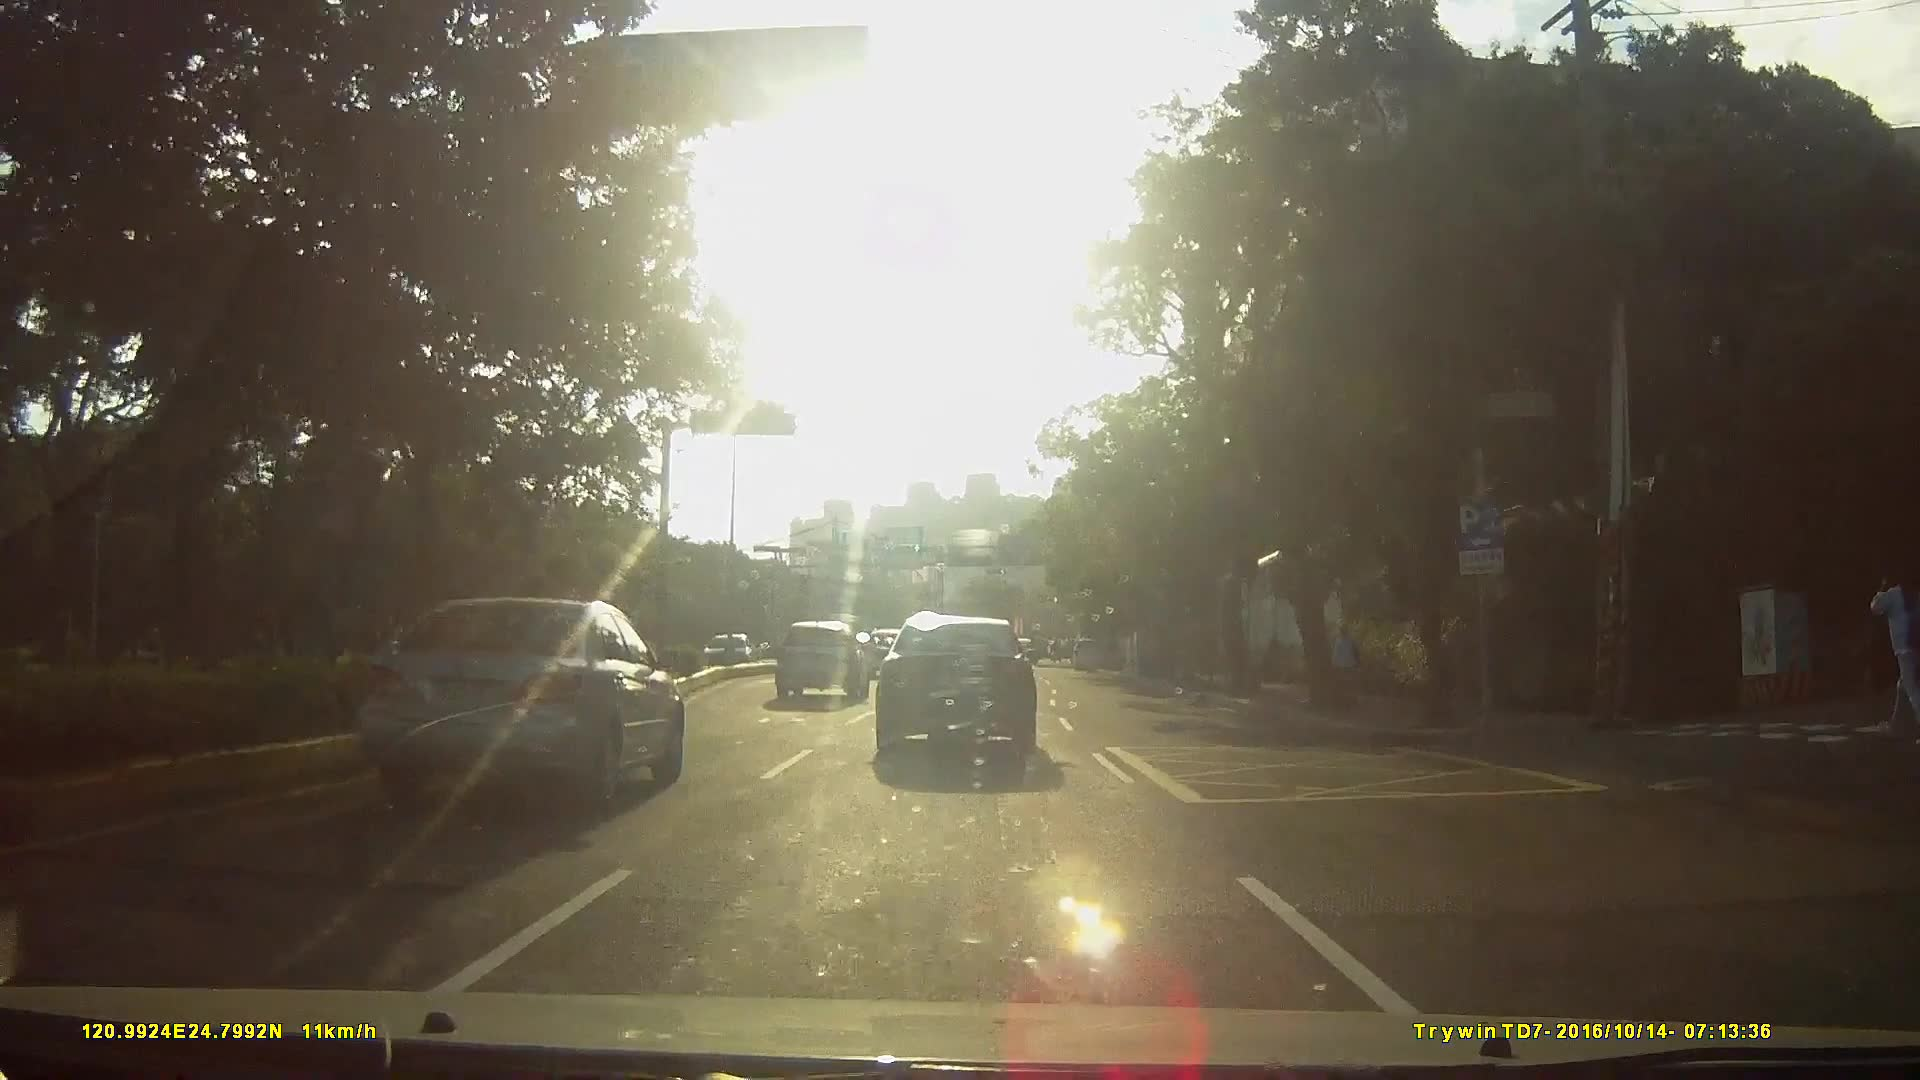pedestrian: (1868, 565, 1920, 742)
vehicle: (354, 595, 683, 808), (868, 620, 1052, 772), (769, 622, 868, 707), (685, 632, 738, 672), (1066, 639, 1103, 674)
